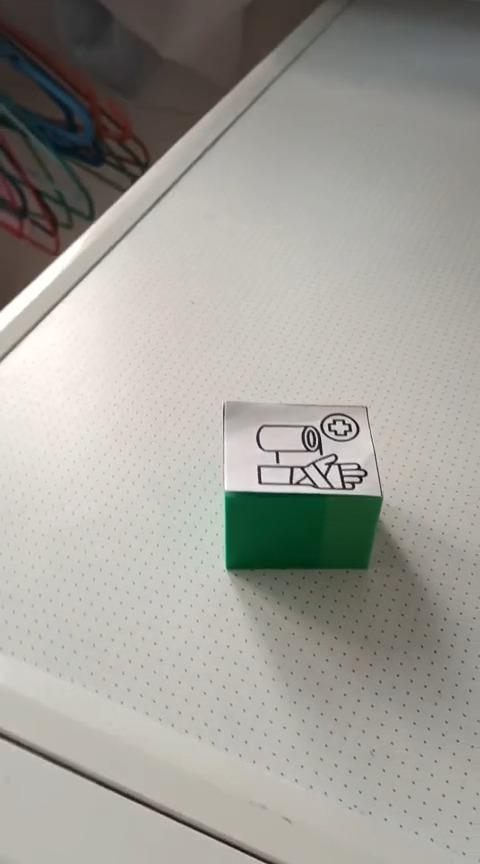Bandages: (223, 401, 383, 572)
